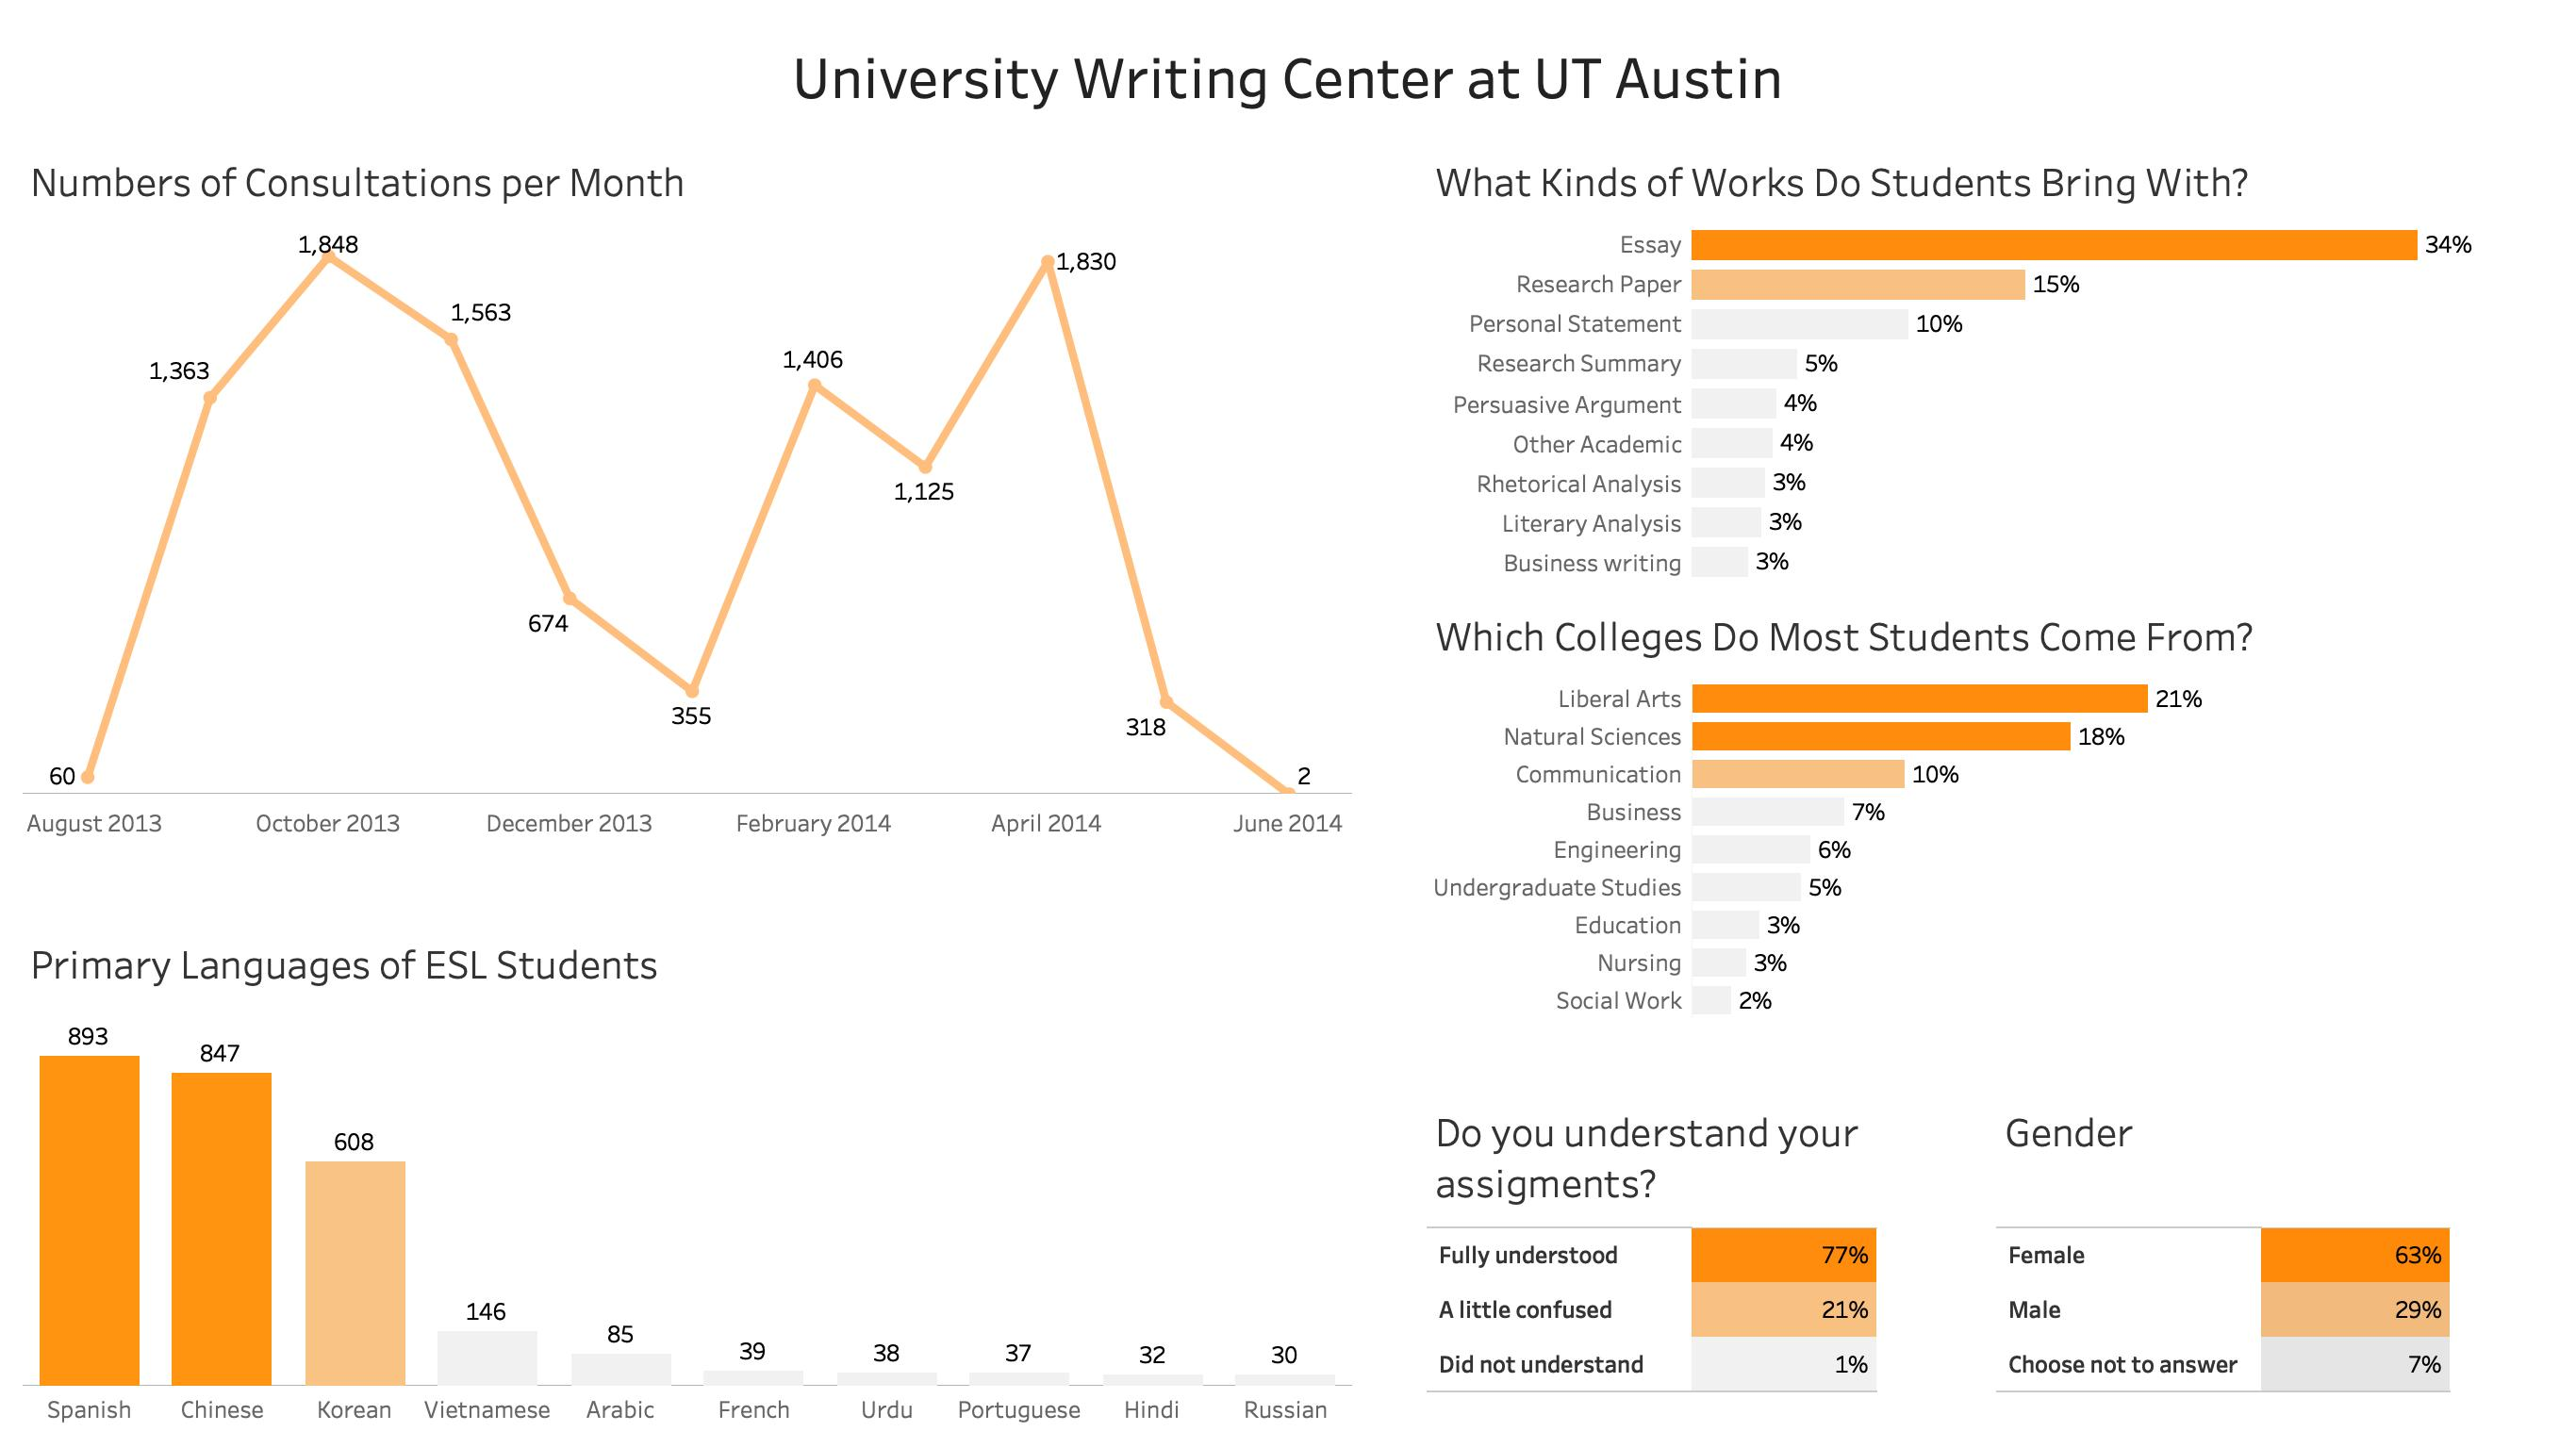

Layout of this report page (visuals, bound fields, positions):
{"tool":"tableau","page":{"name":"Dashboard","canvas":[1366,768],"ordinal":0},"visuals":[{"type":"text","box":[8,8,1350,64]},{"type":"worksheet","title":"Date In","mark":"Automatic","rows":["Number of Records"],"cols":["date in"],"box":[8,72,713,383]},{"type":"blank","box":[721,72,32,688]},{"type":"worksheet","title":"Assignment","mark":"Automatic","cols":["Number of Records"],"box":[753,72,605,241]},{"type":"worksheet","title":"College","mark":"Automatic","cols":["Number of Records"],"box":[753,313,605,231]},{"type":"worksheet","title":"Language","mark":"Automatic","rows":["Number of Records"],"box":[8,487,713,273]},{"type":"worksheet","title":"Understood","mark":"Square","rows":["UnderstoodPrompt"],"box":[753,576,302.5,184]},{"type":"worksheet","title":"Gender","mark":"Square","rows":["gender"],"box":[1055.5,576,302.5,184]}]}

Visuals, with their boxes in screenshot pixels (x1, y1, x2, y2), scaled from the page's 1366x768 canvas onto the 2576x1448 screenshot:
text: <box>15,15,2561,136</box>
"Date In" worksheet: <box>15,136,1360,858</box>
blank: <box>1360,136,1420,1433</box>
"Assignment" worksheet: <box>1420,136,2561,590</box>
"College" worksheet: <box>1420,590,2561,1026</box>
"Language" worksheet: <box>15,918,1360,1433</box>
"Understood" worksheet (Square marks): <box>1420,1086,1990,1433</box>
"Gender" worksheet (Square marks): <box>1990,1086,2561,1433</box>
